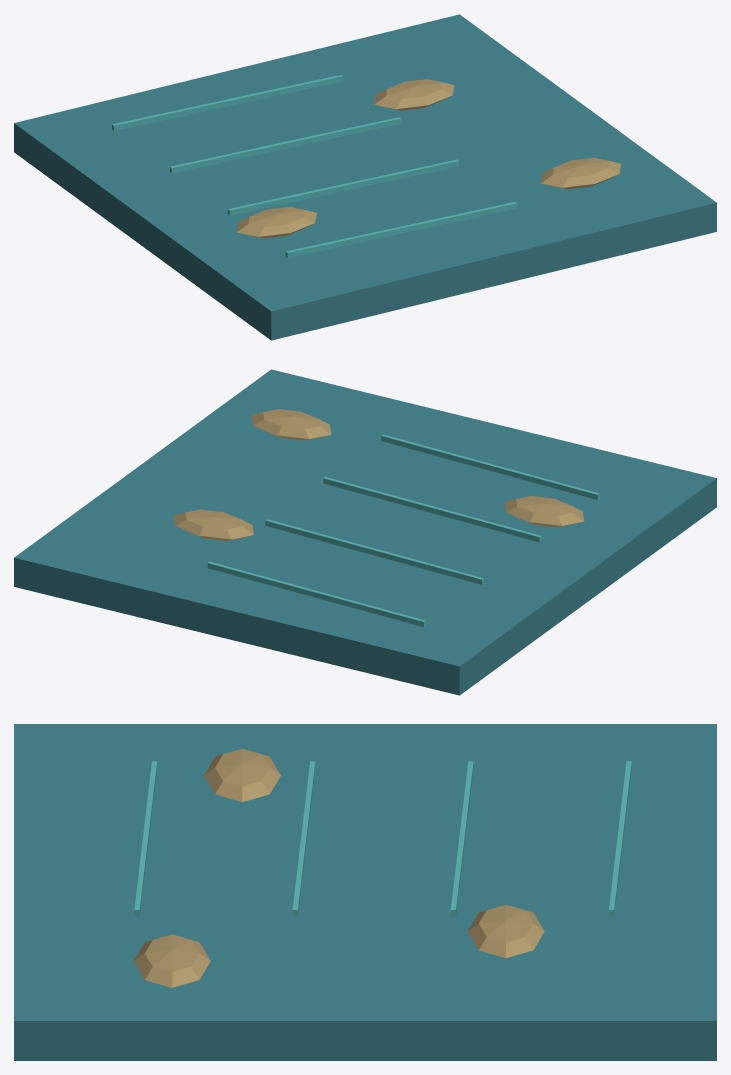
Rendered from terrain-water-shallow.lod0.glb.
3 views of the same model, one above another, from view 1: azimuth 30°, elevation 25°; view 2: azimuth 150°, elevation 25°; view 3: azimuth 270°, elevation 25° (orthographic). The views are drawn at different scales.
Parts seen in each view (by area): view 1: terrain-water-shallow__body; view 2: terrain-water-shallow__body; view 3: terrain-water-shallow__body.
Part boxes in pixels (x1,y1,x2,y2): terrain-water-shallow__body: (14, 14, 716, 340); terrain-water-shallow__body: (14, 369, 716, 695); terrain-water-shallow__body: (14, 724, 716, 1060).
Size of the model in its own units: 2 by 0.185 by 2.
